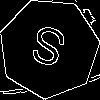S: (24, 23, 70, 78)
